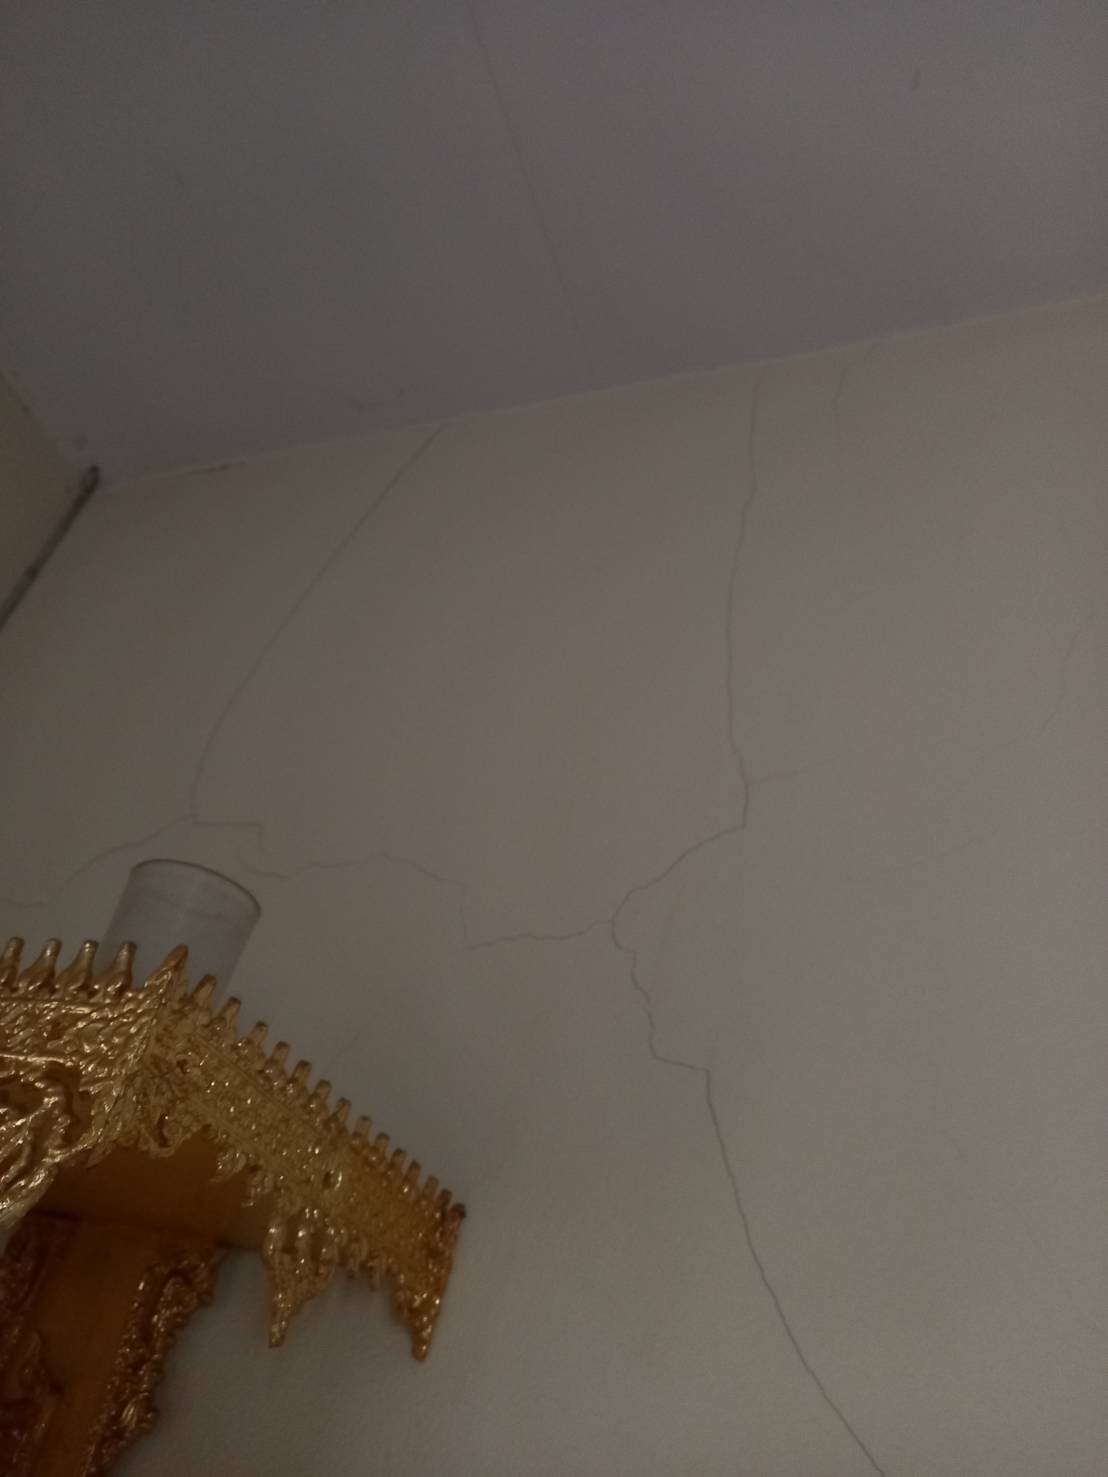Low: (7, 416, 917, 1468)
